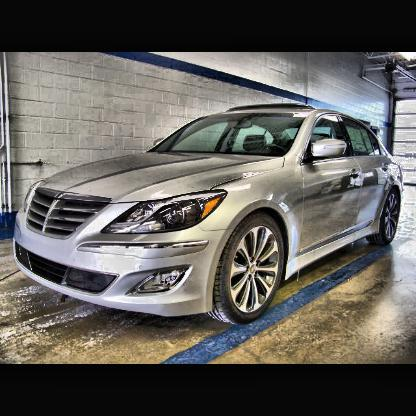Hyundai Genesis Sedan 2012: (12, 101, 406, 329)
